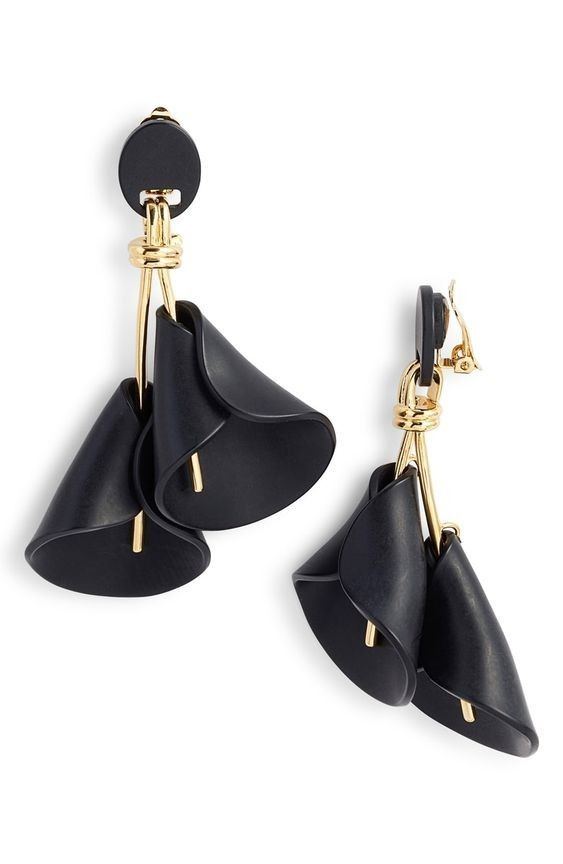cuero: (24, 120, 540, 759)
